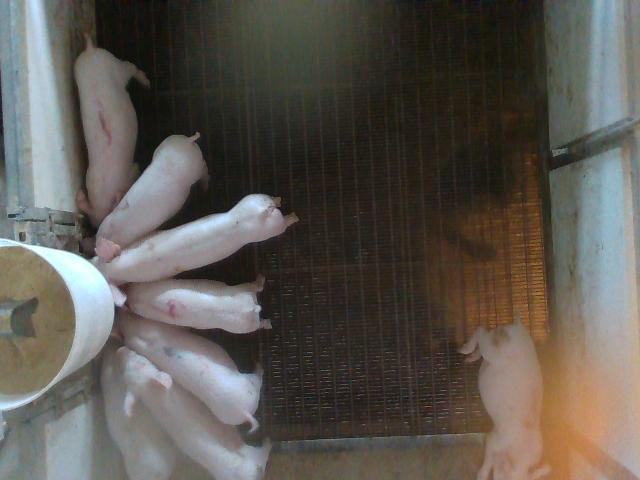pig-1: (74, 38, 149, 226)
pig-3: (459, 319, 550, 478)
pig-4: (125, 275, 271, 333)
